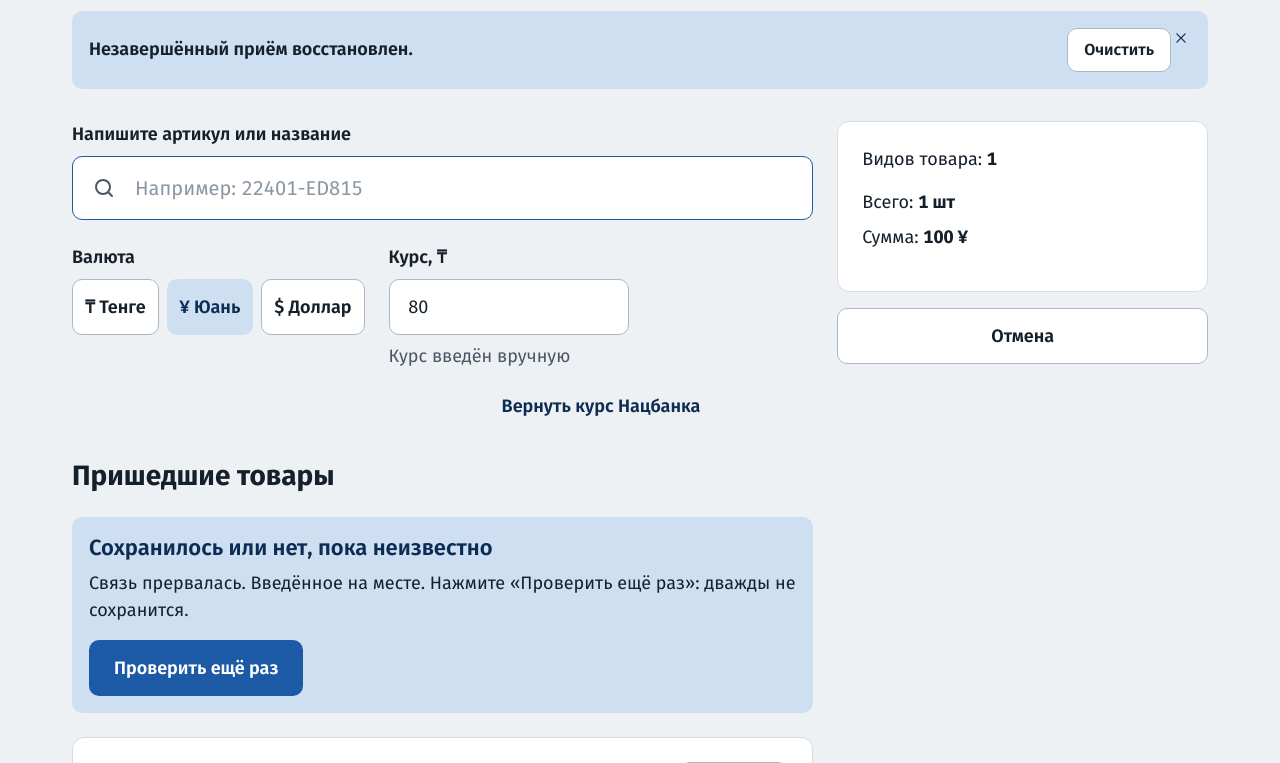
Test: changing manual CNY to USD resets the rate to nbk USD even with an unknown result
(page scrolled)
Click the button "$ Доллар": click(313, 307) [261, 279, 365, 335]
(page scrolled)
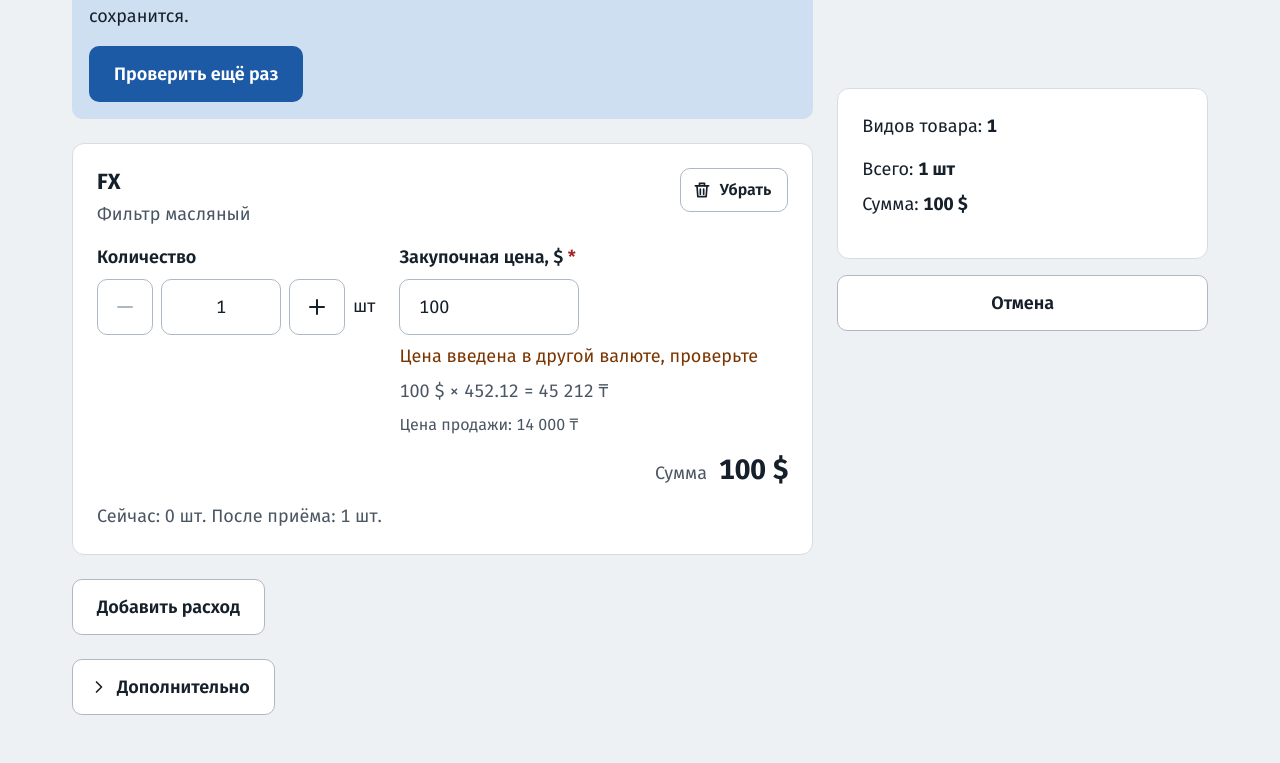
expect the text "Цена введена в другой валюте, проверьте" is shown: met, box [400, 343, 758, 370]
Click the field named "Закупочная цена FX": click(490, 307) [400, 279, 580, 335]
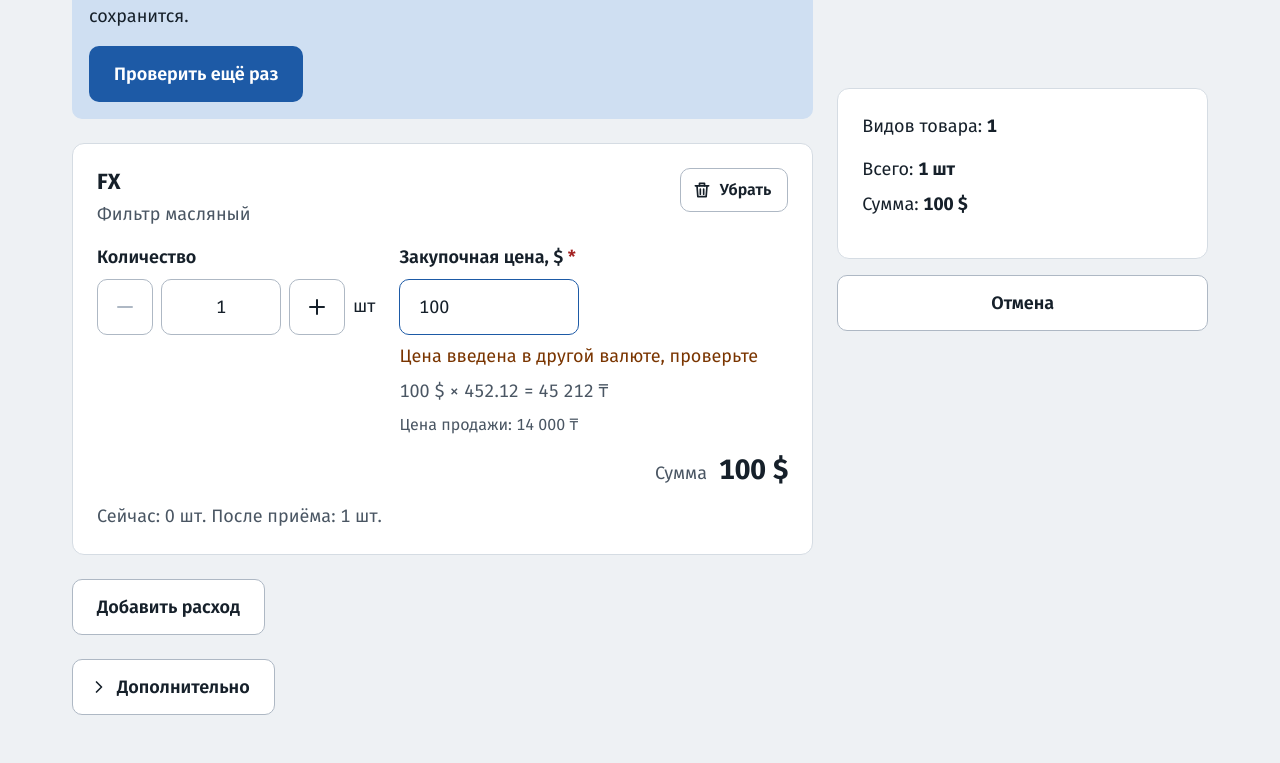
Type keys "101"
(page scrolled)
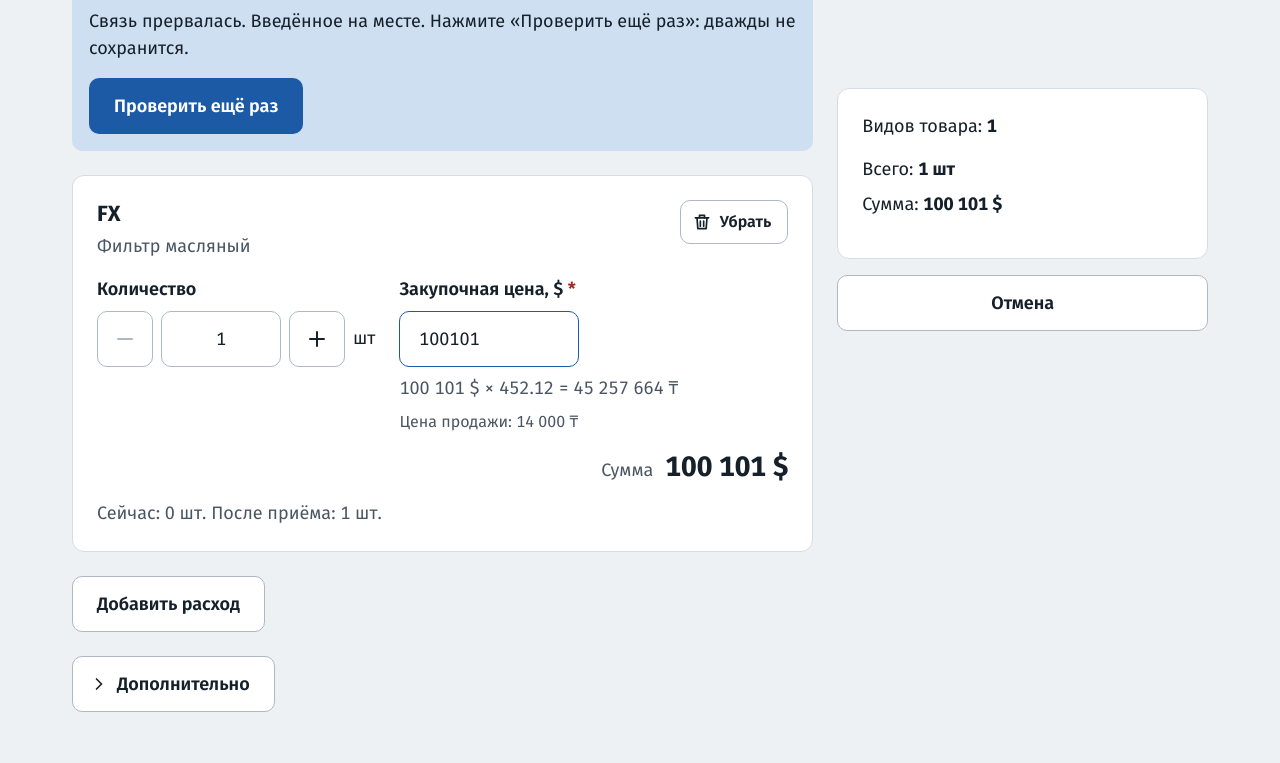
expect the text "Цена введена в другой валюте, проверьте" is gone: met
